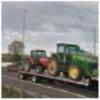tractors: (47, 42, 97, 82), (22, 49, 51, 74)
